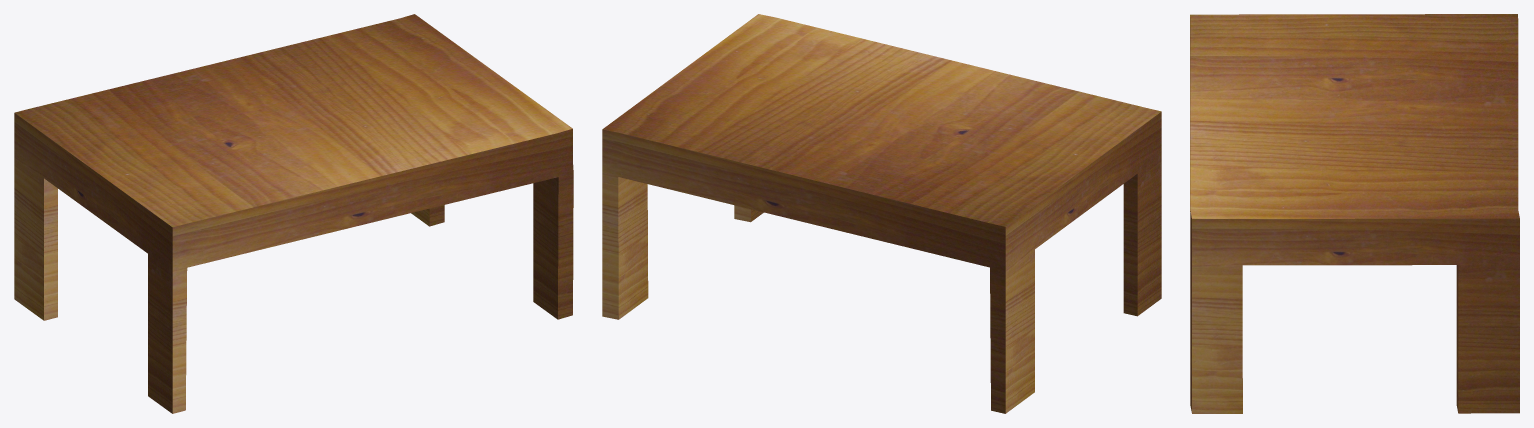
File: deks.FBX
The picture shows the model from 3 angles, left to right: view 1: azimuth 30°, elevation 25°; view 2: azimuth 150°, elevation 25°; view 3: azimuth 270°, elevation 25°; orthographic projection. The views are drawn at different scales.
Visible parts, largest first — view 1: Desk; view 2: Desk; view 3: Desk.
Part boxes in pixels (x1,y1,x2,y2): Desk: (14, 14, 573, 413); Desk: (602, 14, 1161, 413); Desk: (1190, 14, 1519, 413).
Size of the model in its own units: 104 by 45.98 by 70.56.
Materials: 1 (1 with a texture image).
